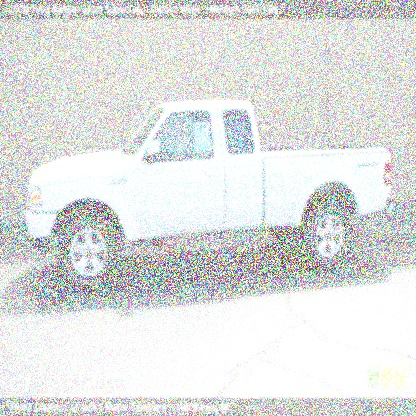Vehicle: (24, 99, 398, 290)
